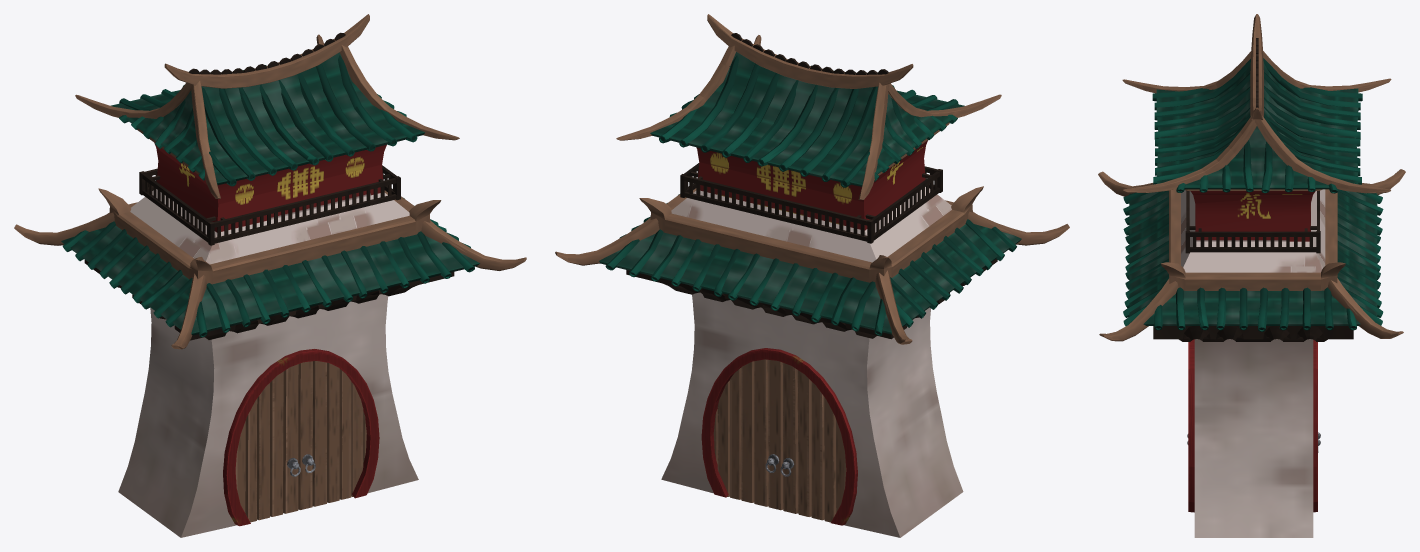
The model's file is Building09.fbx.
3 renders of one model, left to right at view 1: azimuth 30°, elevation 25°; view 2: azimuth 150°, elevation 25°; view 3: azimuth 270°, elevation 25°, orthographic. The views are drawn at different scales.
Visible parts, largest first — view 1: Building09_mesh_mesh; view 2: Building09_mesh_mesh; view 3: Building09_mesh_mesh.
Part boxes in pixels (bbox=[...]): Building09_mesh_mesh: bbox=[14, 14, 526, 537]; Building09_mesh_mesh: bbox=[555, 14, 1069, 537]; Building09_mesh_mesh: bbox=[1098, 14, 1405, 537].
Size of the model in its own units: 167 by 200 by 131.
Materials: 1 (1 with a texture image).
